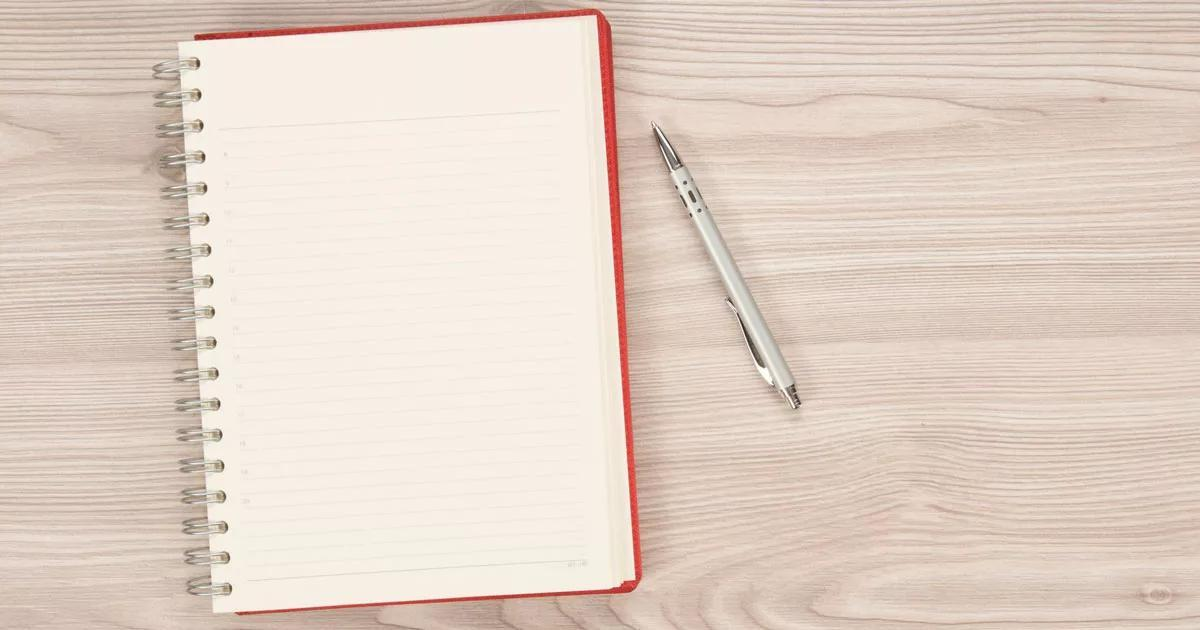pen-pencil: (653, 123, 799, 407)
